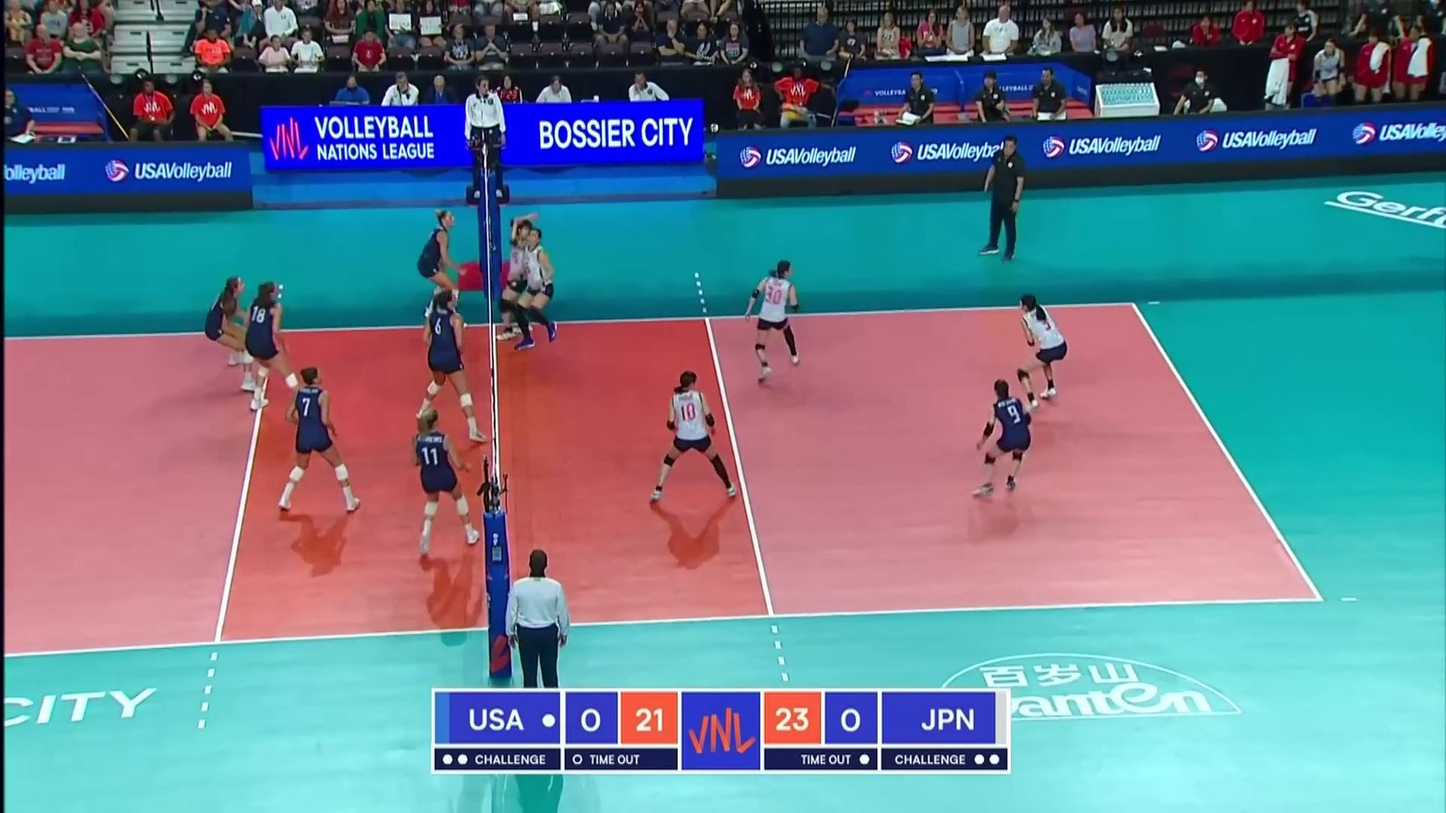player: (278, 364, 361, 514), (652, 371, 738, 501), (418, 286, 488, 443), (411, 407, 479, 550), (248, 281, 316, 410), (971, 379, 1033, 498), (746, 259, 802, 380), (513, 217, 563, 349), (207, 276, 264, 391), (1017, 295, 1069, 409), (420, 210, 468, 331), (501, 215, 540, 335)
refree: (512, 552, 570, 711), (464, 78, 508, 199)
